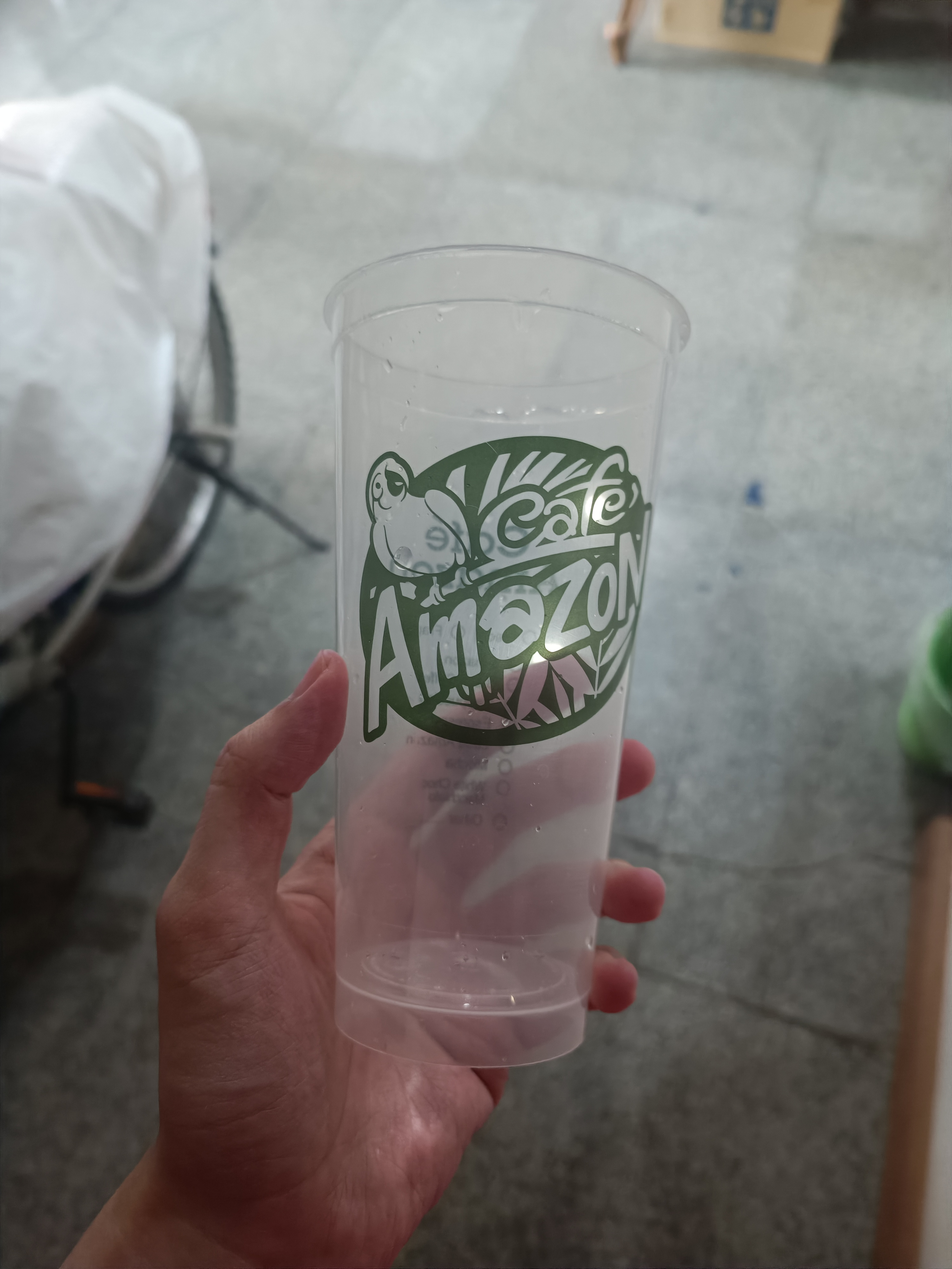plastic: (316, 228, 697, 1078)
